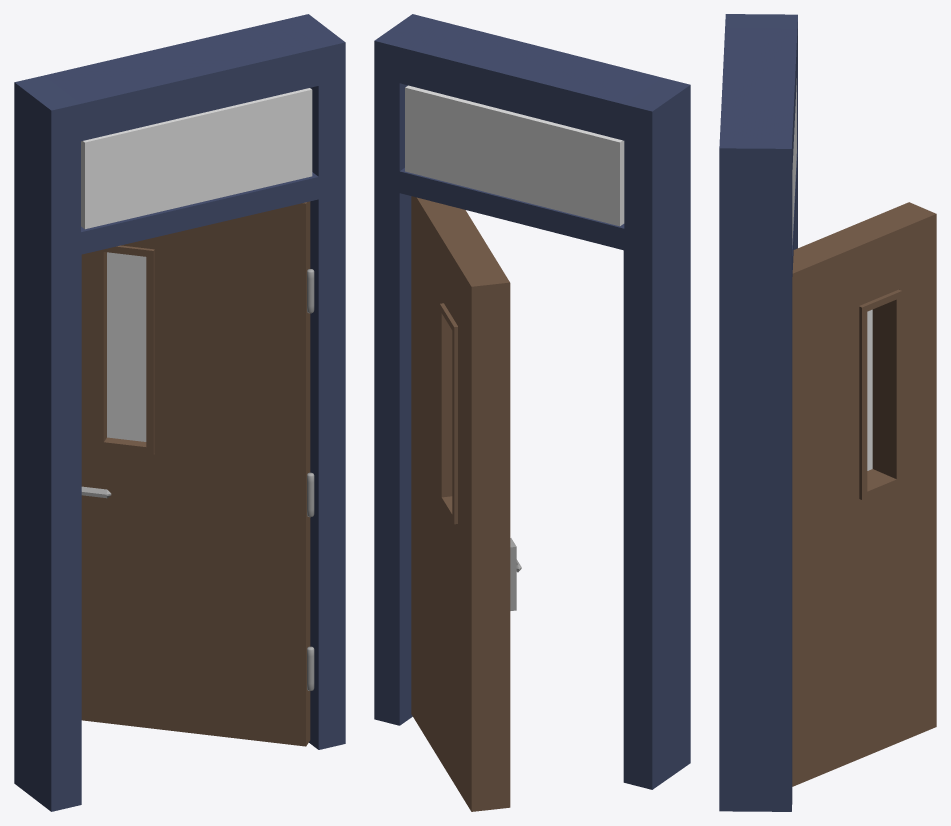
File: Pintu2.fbx
3 views of the same model, side by side, from view 1: azimuth 30°, elevation 25°; view 2: azimuth 150°, elevation 25°; view 3: azimuth 270°, elevation 25° (orthographic). The views are drawn at different scales.
Parts seen in each view (by area): view 1: Pintu terbuka 2.001; view 2: Pintu terbuka 2.001; view 3: Pintu terbuka 2.001.
Part boxes in pixels (bbox=[...]): Pintu terbuka 2.001: bbox=[14, 14, 345, 811]; Pintu terbuka 2.001: bbox=[374, 14, 690, 811]; Pintu terbuka 2.001: bbox=[719, 14, 936, 811].
Bounding box in the file's own units: 99.8 × 229 × 67.98.
